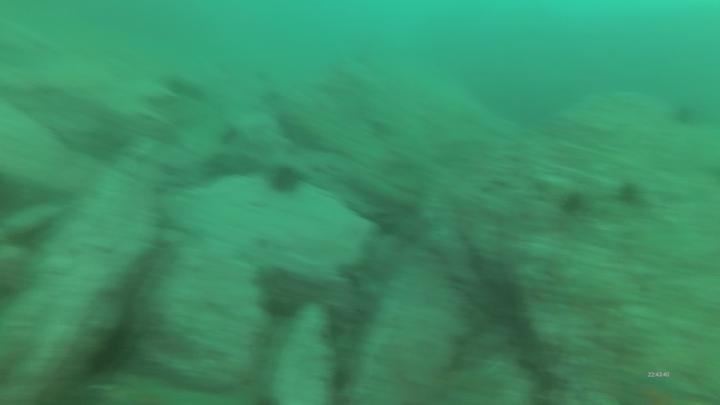echinus: (248, 265, 309, 322), (211, 150, 257, 179), (163, 76, 203, 101), (271, 165, 303, 196), (615, 181, 646, 211), (558, 188, 588, 217), (674, 104, 705, 130)
